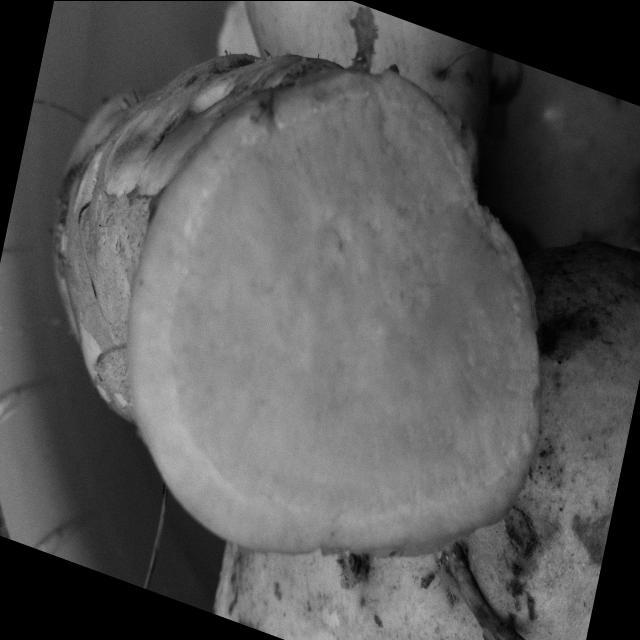Healthy Sweet Potato: (128, 63, 539, 553)
